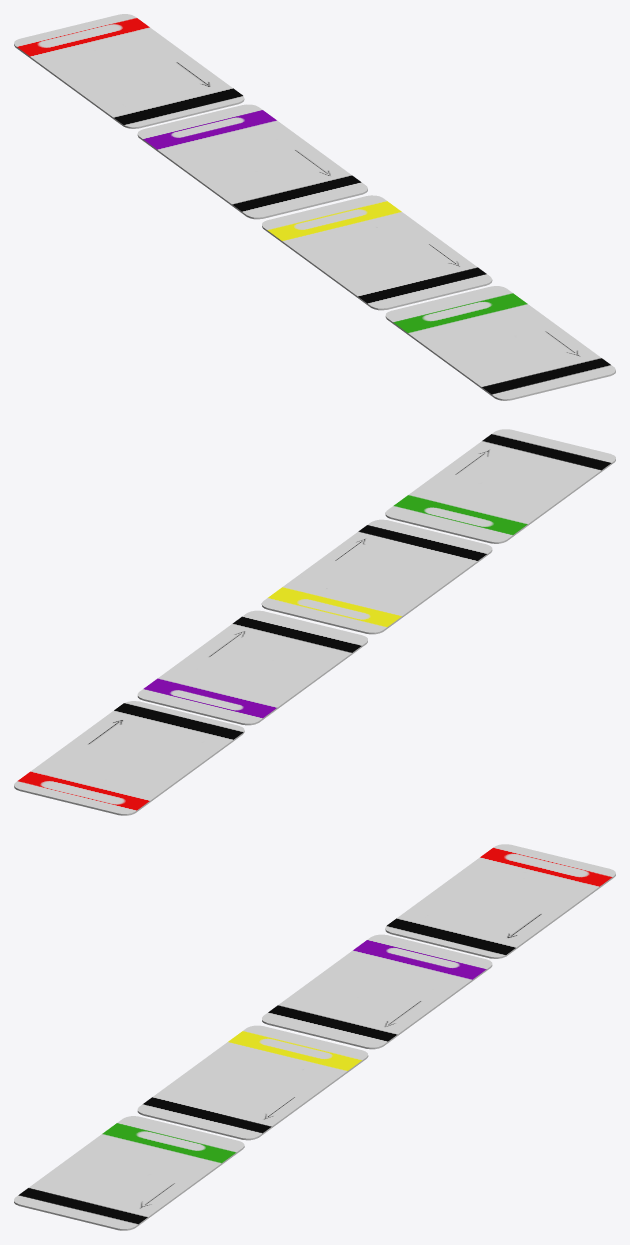
The model's file is keycards.glb.
The picture shows the model from 3 angles, top to bottom: view 1: azimuth 30°, elevation 25°; view 2: azimuth 150°, elevation 25°; view 3: azimuth 330°, elevation 25°; orthographic projection.
Parts seen in each view (by area): view 1: CardYellow, CardPurple, CardGreen, CardRed; view 2: CardRed, CardPurple, CardGreen, CardYellow; view 3: CardRed, CardPurple, CardGreen, CardYellow.
Boxes of the visible parts, x1=… form: CardYellow: x1=262, y1=195, x2=492, y2=310; CardPurple: x1=137, y1=104, x2=367, y2=219; CardGreen: x1=385, y1=286, x2=615, y2=400; CardRed: x1=14, y1=14, x2=244, y2=128; CardRed: x1=14, y1=701, x2=244, y2=815; CardPurple: x1=137, y1=610, x2=367, y2=725; CardGreen: x1=385, y1=429, x2=615, y2=543; CardYellow: x1=261, y1=519, x2=492, y2=634; CardRed: x1=385, y1=844, x2=615, y2=958; CardPurple: x1=262, y1=934, x2=492, y2=1049; CardGreen: x1=14, y1=1116, x2=244, y2=1230; CardYellow: x1=137, y1=1025, x2=368, y2=1140.
Size of the model in its own units: 4.58 by 0.0616 by 32.54.
Materials: 4 (4 with a texture image).
